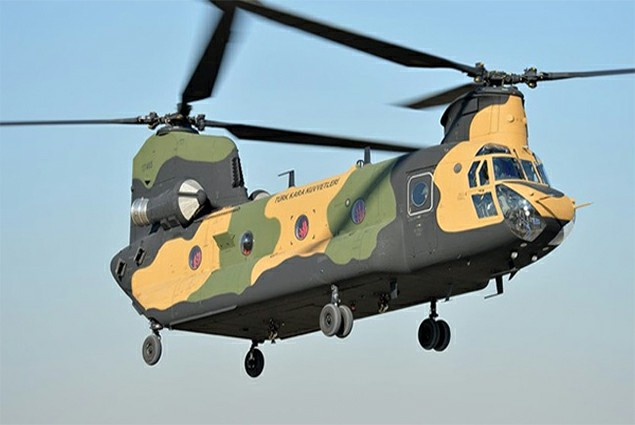chinook: (40, 3, 604, 377)
